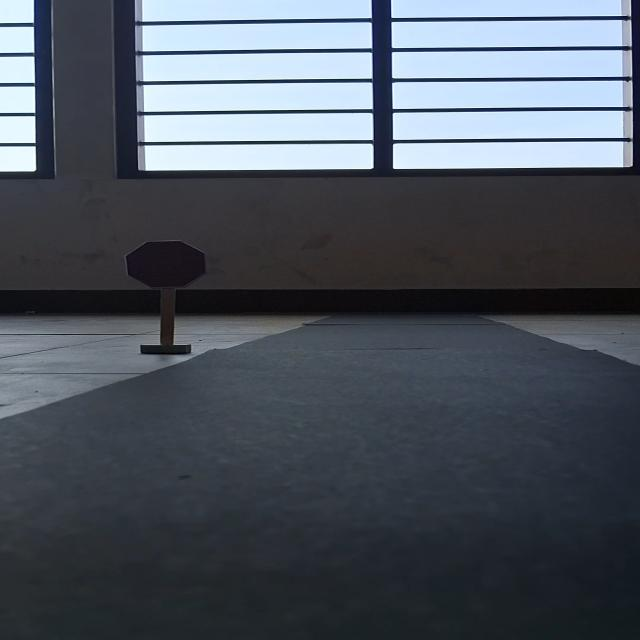Stop: (125, 240, 208, 289)
